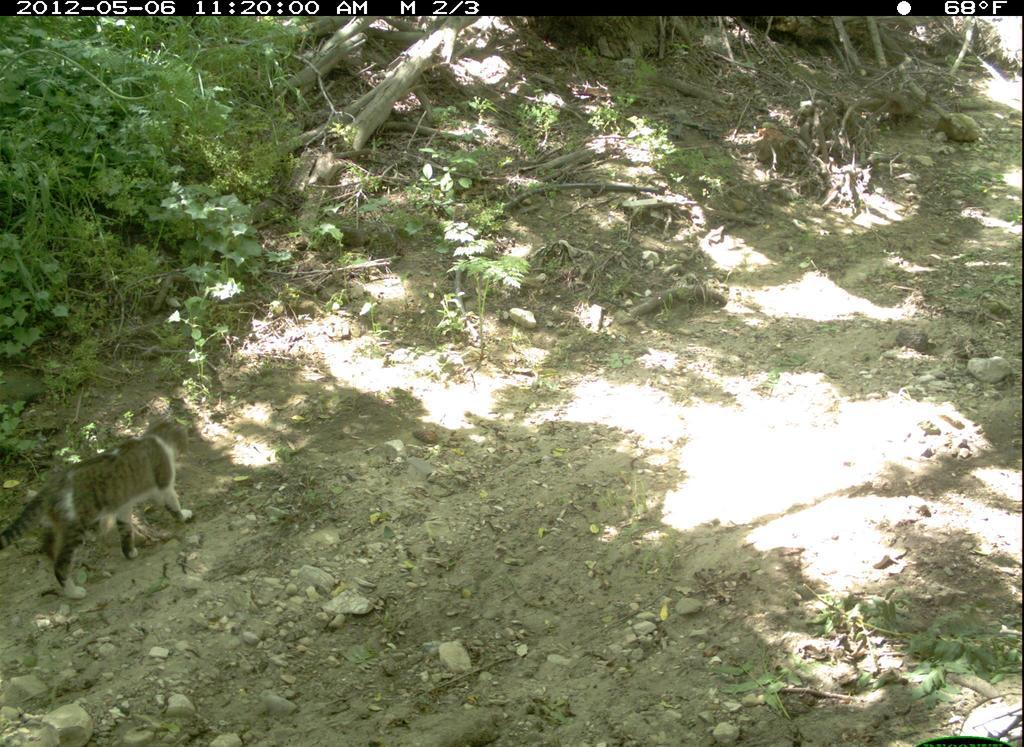cat: (2, 414, 201, 605)
